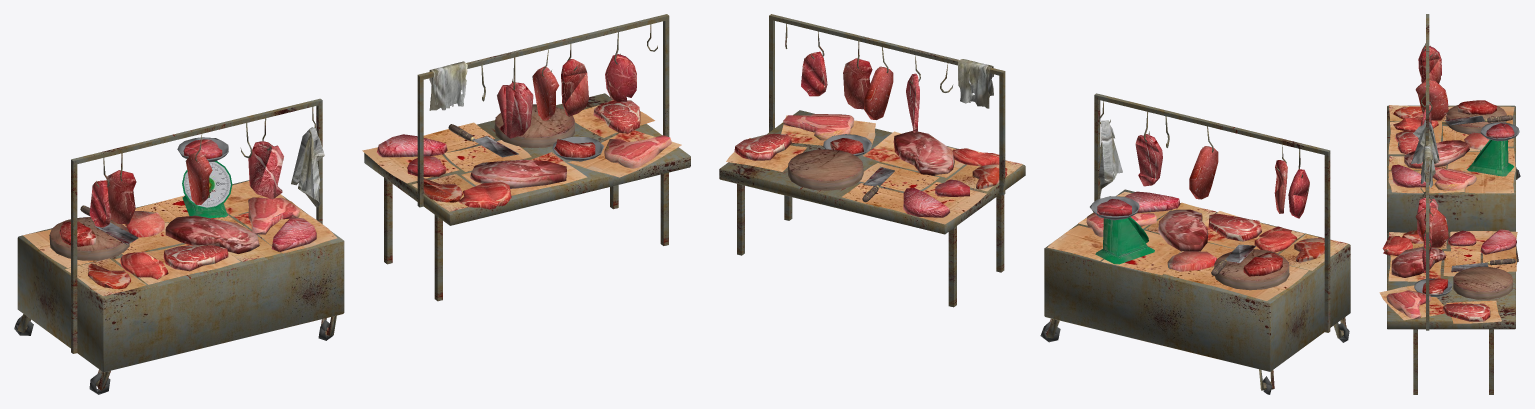
Rendered from sf_stall.glb.
The picture shows the model from 3 angles, left to right: view 1: azimuth 30°, elevation 25°; view 2: azimuth 150°, elevation 25°; view 3: azimuth 270°, elevation 25°; orthographic projection. The views are drawn at different scales.
Visible parts, largest first — view 1: Cube.001_meat_0; view 2: Cube.001_meat_0; view 3: Cube.001_meat_0.
Boxes of the visible parts, bbox=[...] form: Cube.001_meat_0: bbox=[14, 14, 690, 394]; Cube.001_meat_0: bbox=[719, 14, 1350, 394]; Cube.001_meat_0: bbox=[1379, 14, 1520, 394].
Size of the model in its own units: 2.4 by 0.8518 by 0.65.
Materials: 1 (1 with a texture image).
